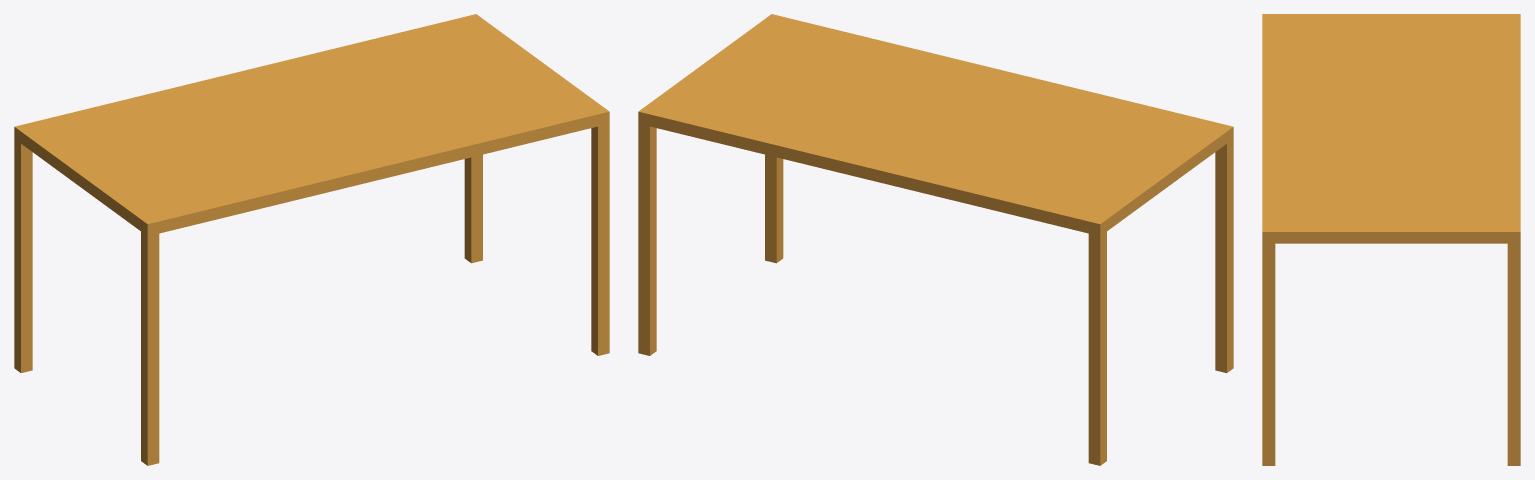
The model's file is music-stage-platform-big.glb.
3 renders of one model, left to right at view 1: azimuth 30°, elevation 25°; view 2: azimuth 150°, elevation 25°; view 3: azimuth 270°, elevation 25°, orthographic. The views are drawn at different scales.
Parts seen in each view (by area): view 1: stage-platform-big; view 2: stage-platform-big; view 3: stage-platform-big.
Part boxes in pixels (<box>): stage-platform-big: <box>14,14,609,465</box>; stage-platform-big: <box>638,14,1233,465</box>; stage-platform-big: <box>1262,14,1520,465</box>.
Size of the model in its own units: 4 by 2 by 2.
